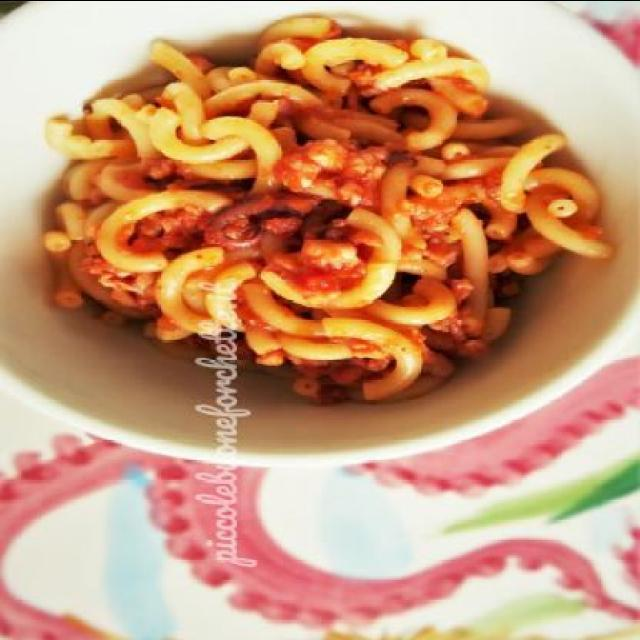Pasta al ragu: (37, 26, 561, 378)
